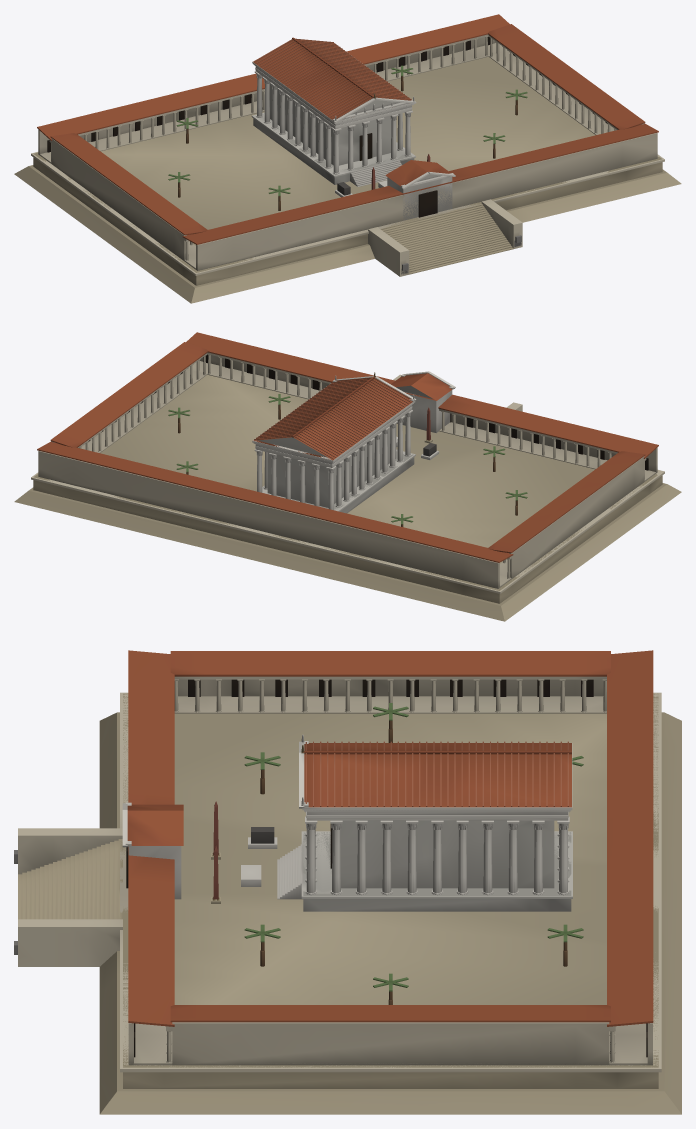
Rendered from serapeum.glb.
3 views of the same model, one above another, from view 1: azimuth 30°, elevation 25°; view 2: azimuth 150°, elevation 25°; view 3: azimuth 270°, elevation 25° (orthographic). The views are drawn at different scales.
Parts seen in each view (by area): view 1: p0_platform, p1_colonnades, p2_temple, p3_roof; view 2: p0_platform, p1_colonnades, p3_roof, p2_temple; view 3: p0_platform, p1_colonnades, p2_temple, p3_roof.
Boxes of the visible parts, x1=… form: p0_platform: x1=14, y1=57, x2=681, y2=303; p1_colonnades: x1=37, y1=14, x2=658, y2=270; p2_temple: x1=251, y1=71, x2=430, y2=197; p3_roof: x1=168, y1=37, x2=527, y2=201; p0_platform: x1=14, y1=374, x2=681, y2=621; p1_colonnades: x1=37, y1=332, x2=658, y2=588; p3_roof: x1=168, y1=372, x2=527, y2=526; p2_temple: x1=254, y1=407, x2=438, y2=513; p0_platform: x1=14, y1=692, x2=681, y2=1114; p1_colonnades: x1=122, y1=650, x2=653, y2=1065; p2_temple: x1=211, y1=801, x2=572, y2=911; p3_roof: x1=244, y1=703, x2=583, y2=1000.
Bounding box in the file's own units: 160 × 32.75 × 115.
